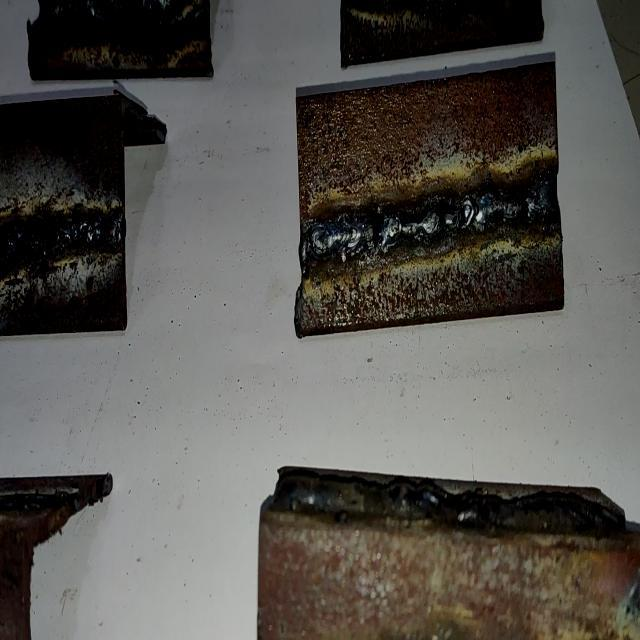Defect: (0, 211, 124, 263), (46, 0, 190, 27)
Welding Line: (302, 174, 558, 262)
Workpiece: (294, 57, 560, 346), (0, 86, 128, 344)
